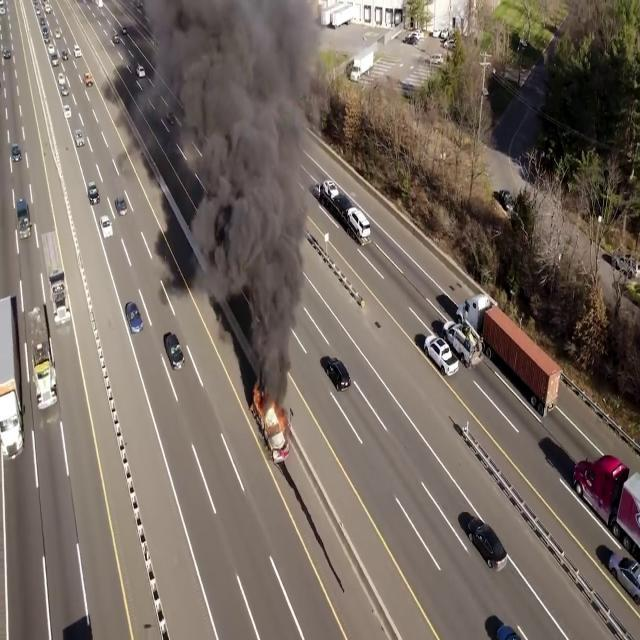Fire: (254, 386, 286, 438)
Smoke: (170, 1, 324, 360)
